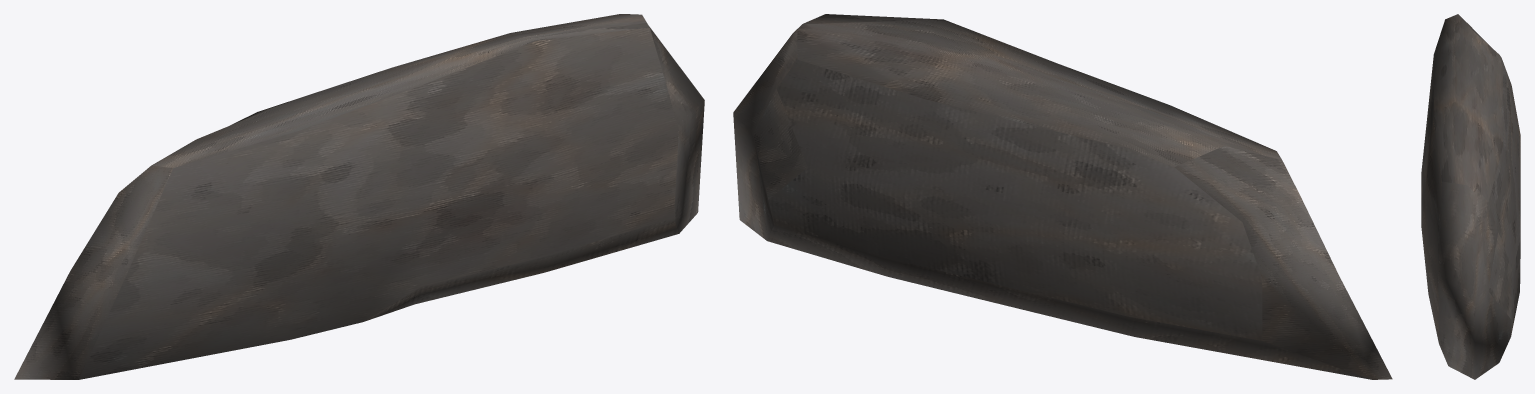
The model's file is 장애물_바위중 1.fbx.
3 renders of one model, left to right at view 1: azimuth 30°, elevation 25°; view 2: azimuth 150°, elevation 25°; view 3: azimuth 270°, elevation 25°, orthographic. The views are drawn at different scales.
Parts seen in each view (by area): view 1: 바위중 1; view 2: 바위중 1; view 3: 바위중 1.
Boxes of the visible parts, x1=… form: 바위중 1: x1=14, y1=14, x2=704, y2=379; 바위중 1: x1=733, y1=14, x2=1392, y2=379; 바위중 1: x1=1421, y1=14, x2=1520, y2=379.
Bounding box in the file's own units: 299 × 97.97 × 47.24.
Materials: 1 (1 with a texture image).
